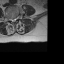CCS_stenosis: (13, 16, 15, 24)
LFS_normal: (16, 14, 18, 21)
LLS_normal: (15, 16, 17, 22)
RFS_normal: (9, 16, 11, 22)
RLS_normal: (11, 16, 13, 23)
